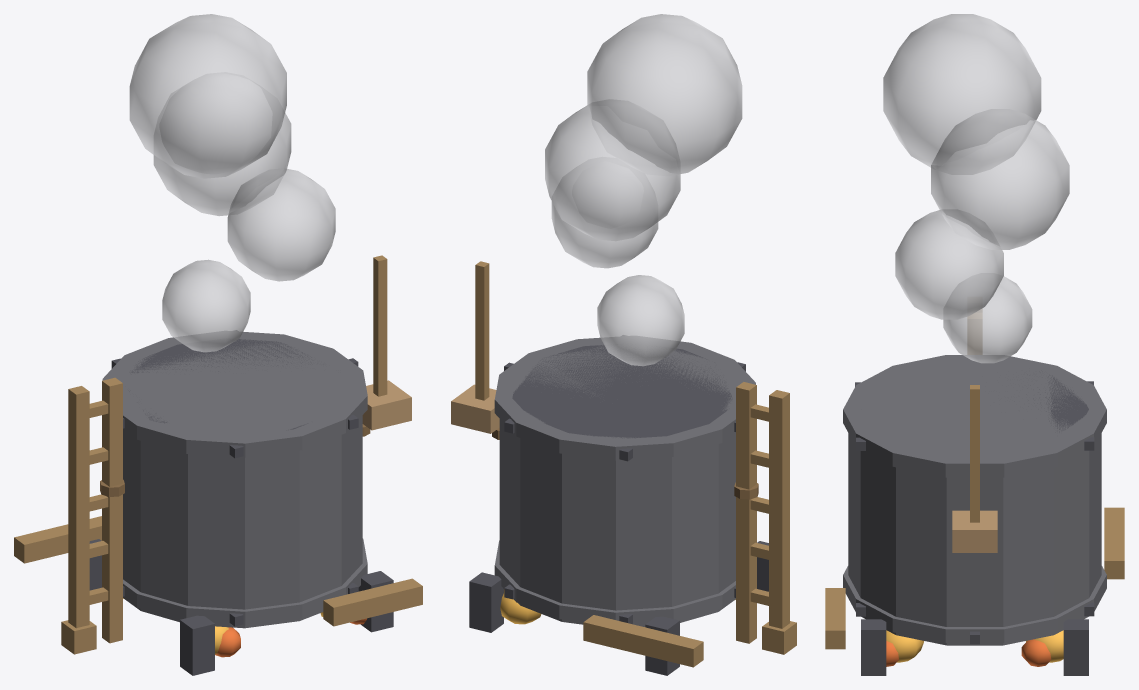
Rendered from cauldron.glb.
3 renders of one model, left to right at view 1: azimuth 30°, elevation 25°; view 2: azimuth 150°, elevation 25°; view 3: azimuth 270°, elevation 25°, orthographic.
Parts seen in each view (by area): view 1: pot_outer, steam4, rim, steam3, steam2, steam1, ladder_pole1, ladder_pole2, rim_under, pot_inner, log_b, spoon_handle (+5 smaller); view 2: pot_outer, steam4, steam3, pot_inner, rim, steam2, steam1, ladder_pole1, ladder_pole2, rim_under, log_a, spoon_handle (+5 smaller); view 3: pot_outer, steam4, steam3, rim, steam2, steam1, rim_under, spoon_bowl, log_a, leg_fr, leg_br, pot_inner (+6 smaller).
Part boxes in pixels (x1,y1,x2,y2): pot_outer: (123, 333, 362, 628); steam4: (129, 14, 286, 178); rim: (102, 331, 367, 457); steam3: (153, 72, 291, 216); steam2: (227, 168, 335, 281); steam1: (162, 259, 250, 352); ladder_pole1: (68, 386, 89, 628); ladder_pole2: (102, 377, 122, 643); rim_under: (123, 538, 367, 625); pot_inner: (128, 339, 323, 430); log_b: (323, 578, 422, 626); spoon_handle: (373, 255, 387, 396); pot_outer: (499, 338, 750, 626); steam4: (587, 14, 742, 175); steam3: (545, 99, 680, 241); pot_inner: (512, 344, 732, 438); rim: (494, 336, 755, 460); steam2: (551, 157, 658, 268); steam1: (597, 275, 684, 366); ladder_pole1: (769, 390, 789, 628); ladder_pole2: (736, 382, 756, 643); rim_under: (494, 540, 735, 625); log_a: (583, 615, 703, 667); spoon_handle: (475, 261, 489, 400); pot_outer: (848, 357, 1101, 645); steam4: (883, 14, 1041, 174); steam3: (931, 109, 1069, 249); rim: (843, 355, 1106, 477); steam2: (895, 209, 1003, 319); steam1: (943, 273, 1032, 363); rim_under: (843, 566, 1106, 642); spoon_bowl: (952, 510, 997, 552); log_a: (1104, 507, 1124, 579); leg_fr: (1063, 619, 1088, 675); leg_br: (861, 619, 886, 675); pot_inner: (1014, 370, 1088, 432).
Size of the model in its own units: 1.49 by 2.57 by 1.18.
